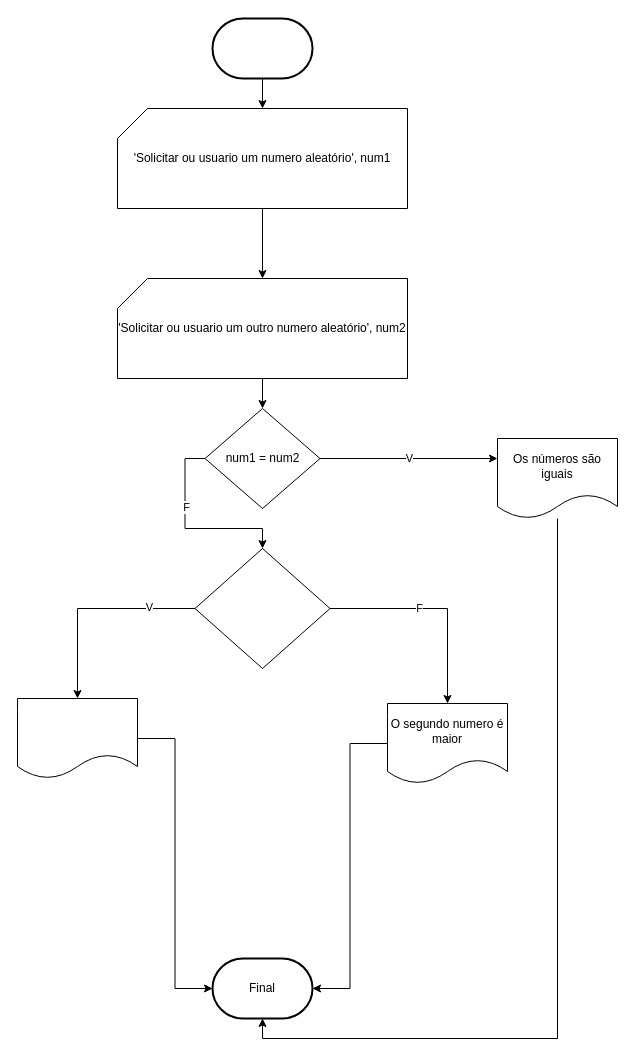
This 635x1064 diagram has some shape labels left out. Here are the shapes that lost their labels. From the top down, the box of each, then its label:
(211, 17, 313, 79): Inicio
(194, 548, 330, 668): num1 > num2
(16, 698, 138, 778): O primeiro numero é maior
